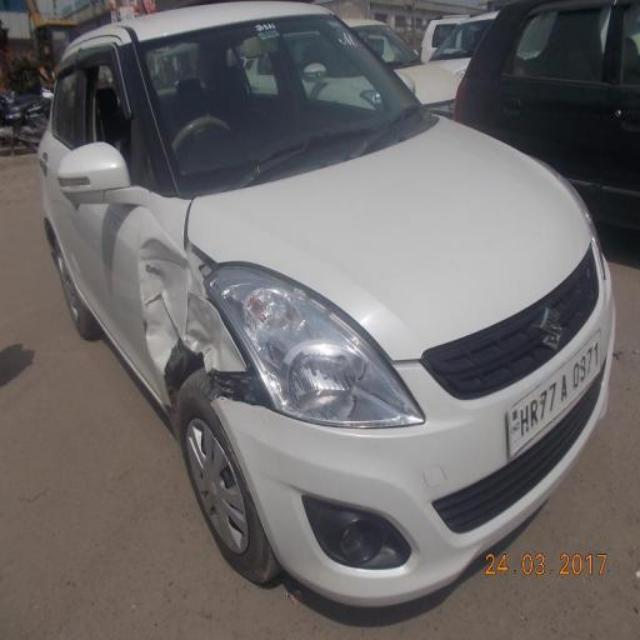dent: (143, 239, 246, 377)
no part: (207, 365, 274, 409)
